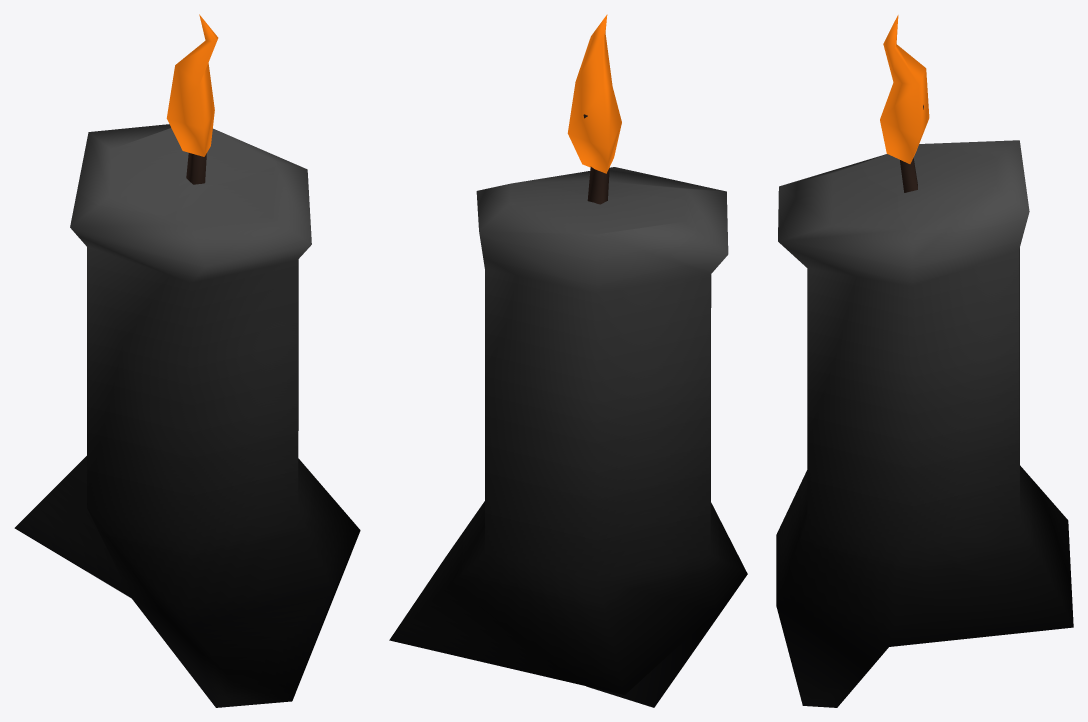
The model's file is CandleShapeE.012.glb.
3 views of the same model, side by side, from view 1: azimuth 30°, elevation 25°; view 2: azimuth 150°, elevation 25°; view 3: azimuth 270°, elevation 25° (orthographic). The views are drawn at different scales.
Parts seen in each view (by area): view 1: CandleShapeE.012; view 2: CandleShapeE.012; view 3: CandleShapeE.012.
Boxes of the visible parts, box(x1,y1,x2,y2) form: CandleShapeE.012: box(14, 14, 360, 707); CandleShapeE.012: box(389, 14, 747, 707); CandleShapeE.012: box(776, 15, 1073, 707).
Size of the model in its own units: 0.1424 by 0.327 by 0.1308.
Materials: 2 (2 with a texture image).
